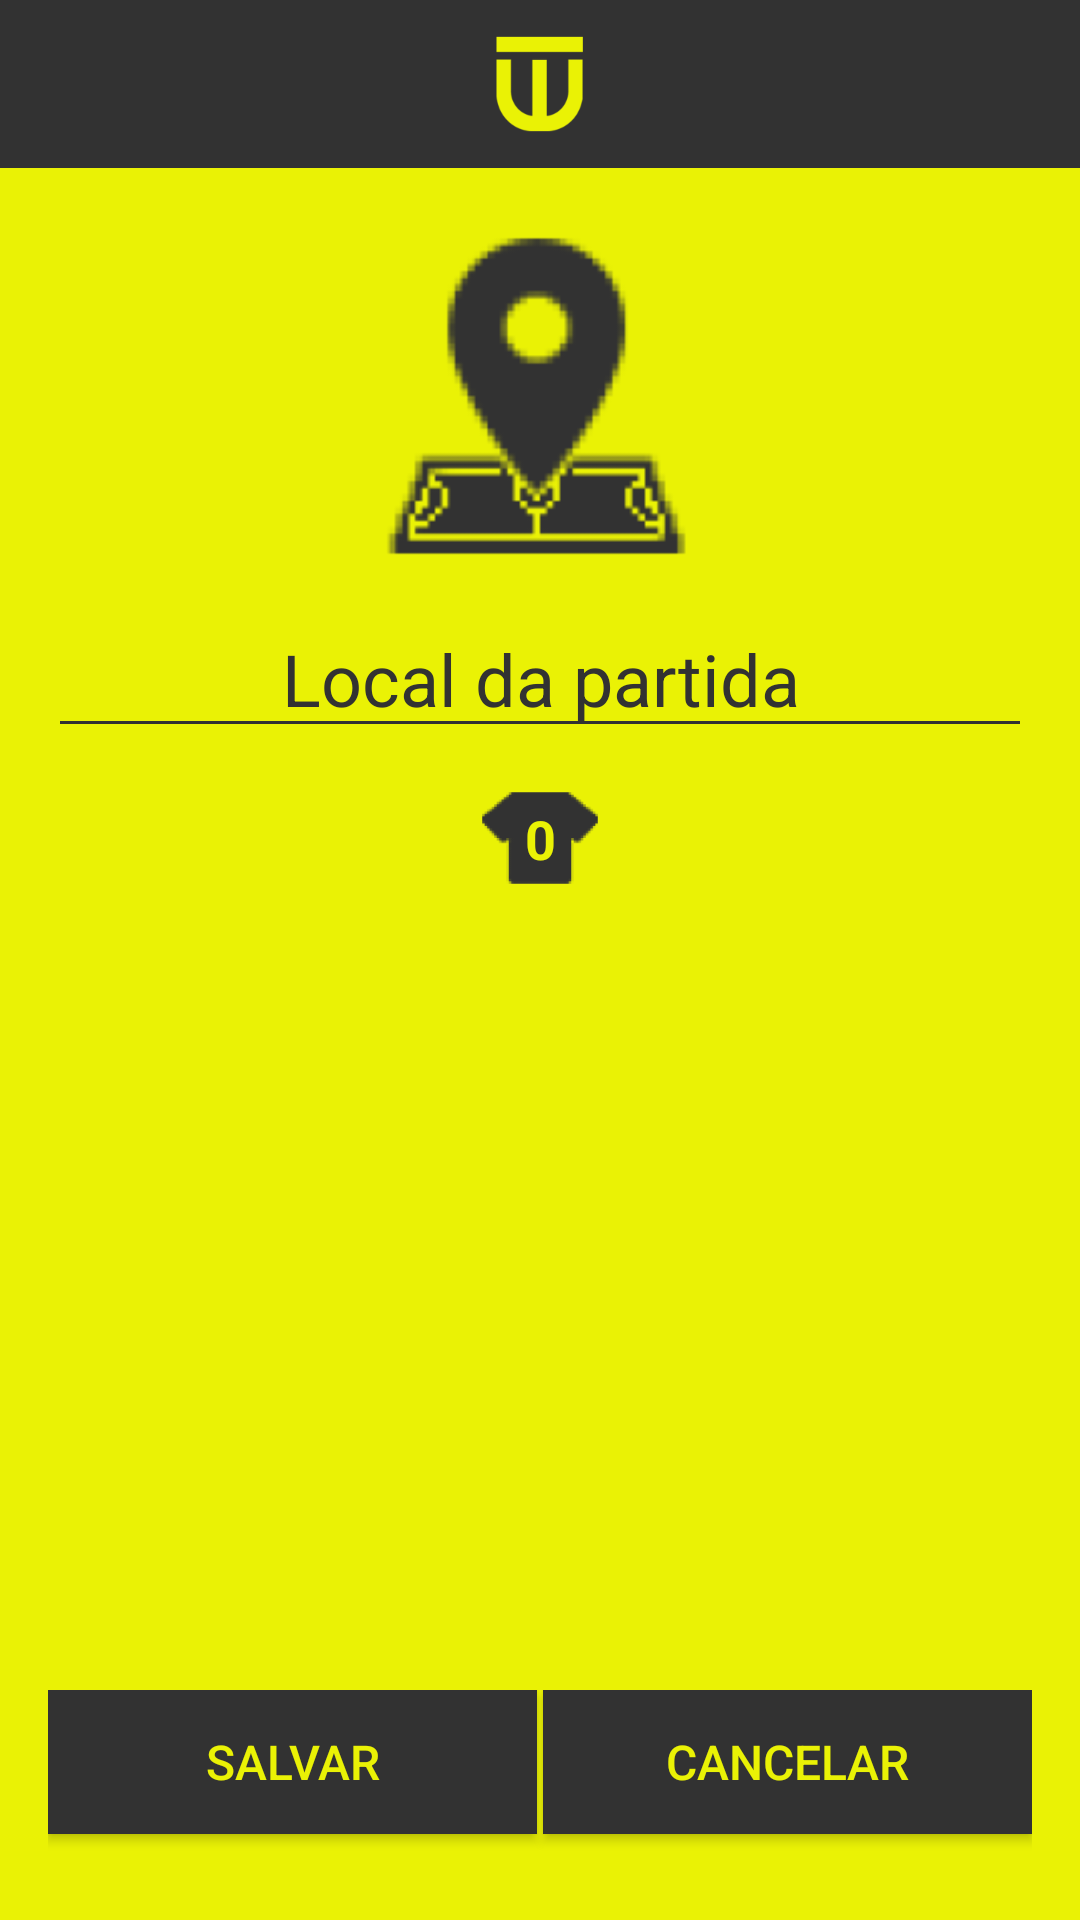

Named icons in this screenshot (1080px x 1920px) and their bounding boxes, (x1, y1, x2, y2):
match players list: (482, 792, 598, 884)
